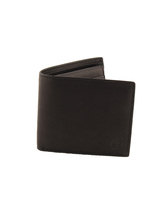other: (30, 59, 137, 161)
